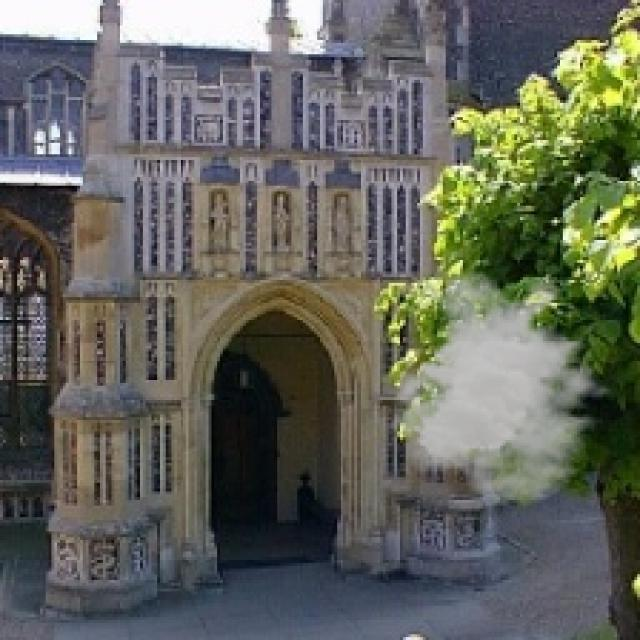smoke: (386, 268, 623, 506)
